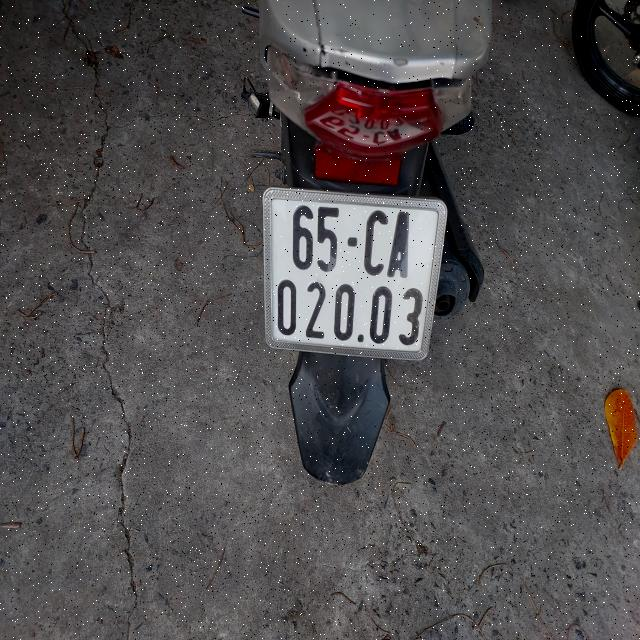0: (368, 287, 394, 345), (333, 285, 357, 343), (276, 279, 300, 336)
2: (302, 284, 327, 340)
3: (399, 285, 424, 347)
5: (315, 202, 343, 274)
6: (290, 203, 314, 272)
A: (390, 212, 410, 282)
C: (364, 208, 387, 277)
